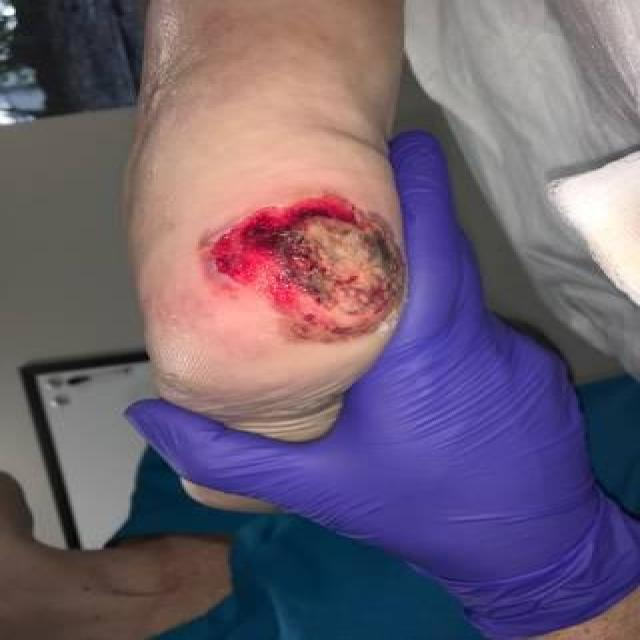Unstageable: (210, 195, 404, 341)
